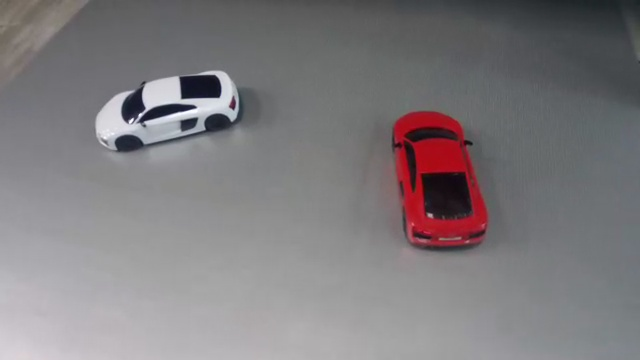car: (393, 111, 488, 249), (94, 69, 240, 151)
